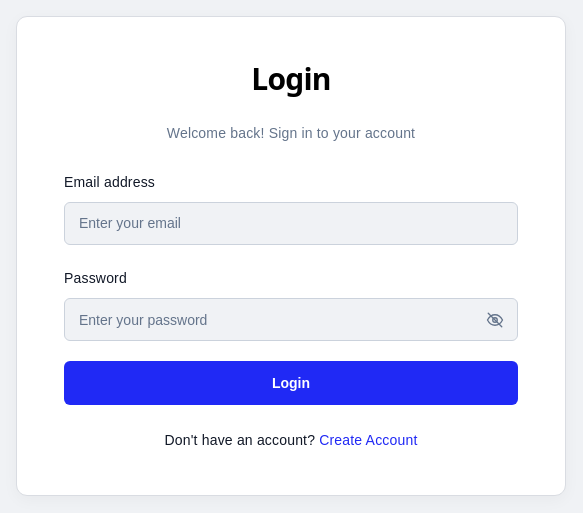
Test: Login component › hides the password when the Hide button is clicked
Step 1. Type "Password123!" into the password field labelled "Password" → (291, 320), box [64, 298, 518, 341]
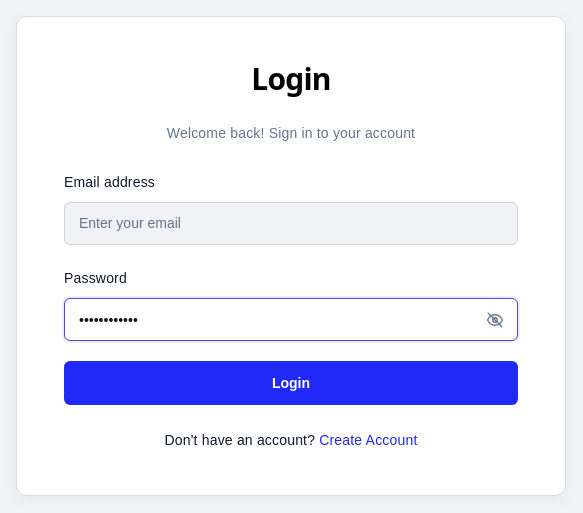
Step 2. Click the button named "Show password" → (495, 320), box [479, 304, 511, 336]
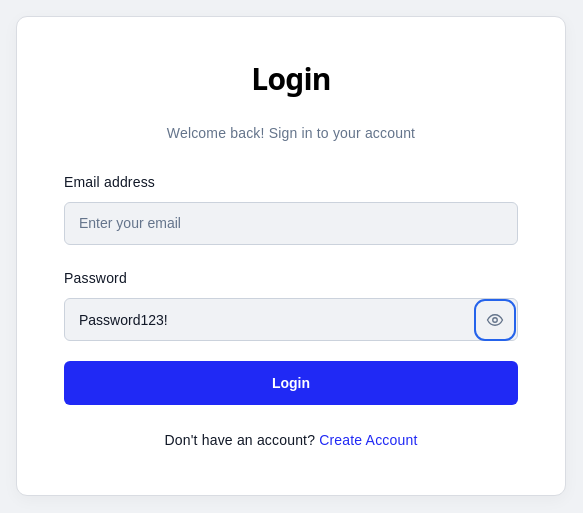
Step 3. Click the button named "Hide password" → (495, 320), box [479, 304, 511, 336]
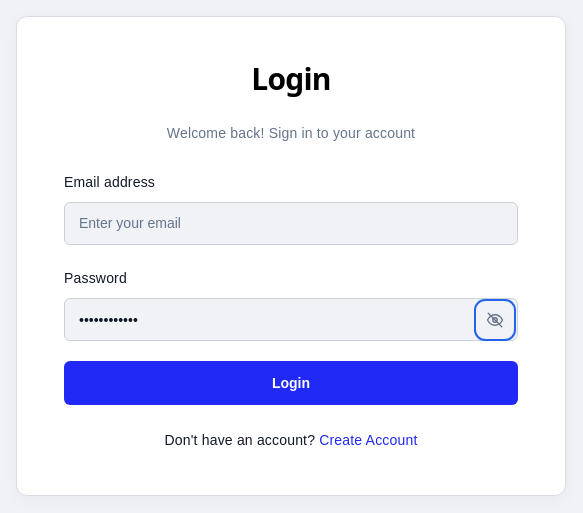
Check: the password field labelled "Password" hides its text, box [64, 298, 518, 341]
